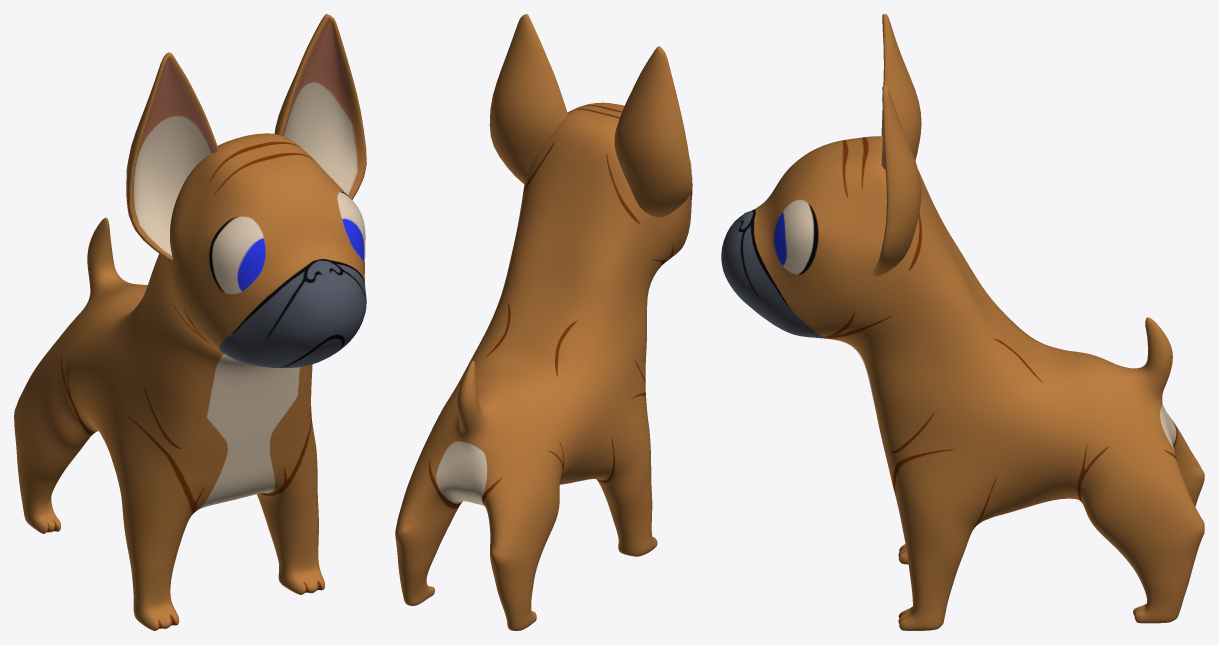
File: Bulldog.glb
The picture shows the model from 3 angles, left to right: view 1: azimuth 30°, elevation 25°; view 2: azimuth 150°, elevation 25°; view 3: azimuth 270°, elevation 25°; orthographic projection. The views are drawn at different scales.
Visible parts, largest first — view 1: french_bulldog.1; view 2: french_bulldog.1; view 3: french_bulldog.1.
Boxes of the visible parts, x1,y1,x2,y2 form: french_bulldog.1: (14,14,366,630); french_bulldog.1: (395,14,692,630); french_bulldog.1: (721,14,1204,630).
Size of the model in its own units: 0.0609 by 0.1433 by 0.1156.
Materials: 1 (1 with a texture image).
